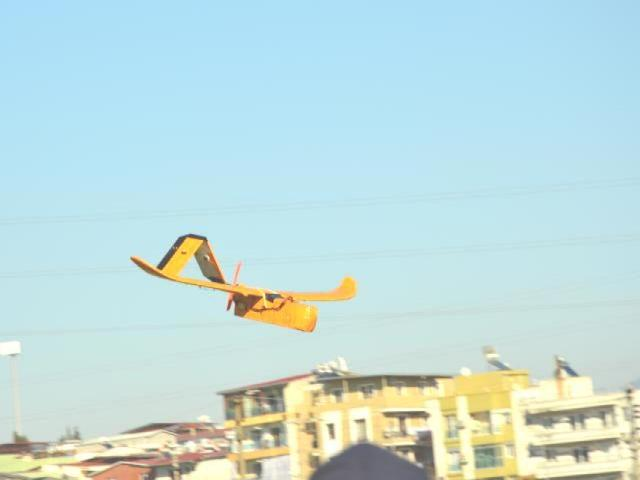iha: (123, 227, 367, 336)
